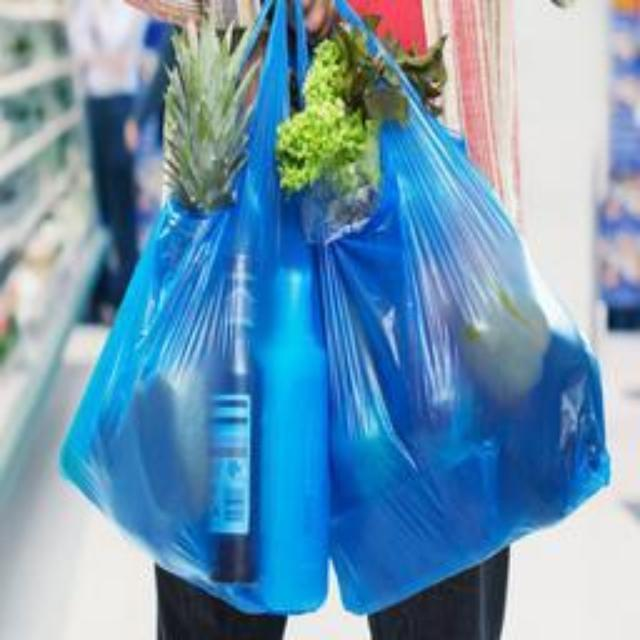Bolsa-de-nilon: (308, 0, 630, 622), (55, 0, 337, 633)
